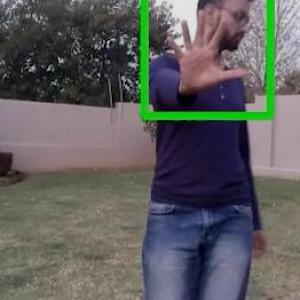follow_hand: (160, 0, 255, 96)
